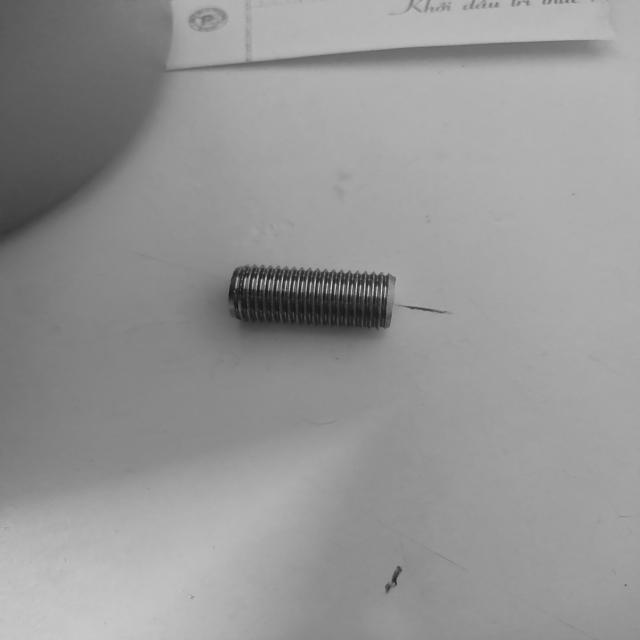Normal: (228, 264, 398, 332)
